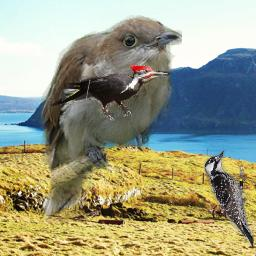Cuckoo: (37, 15, 182, 222)
Woodpecker: (51, 64, 170, 122), (204, 150, 254, 247)
